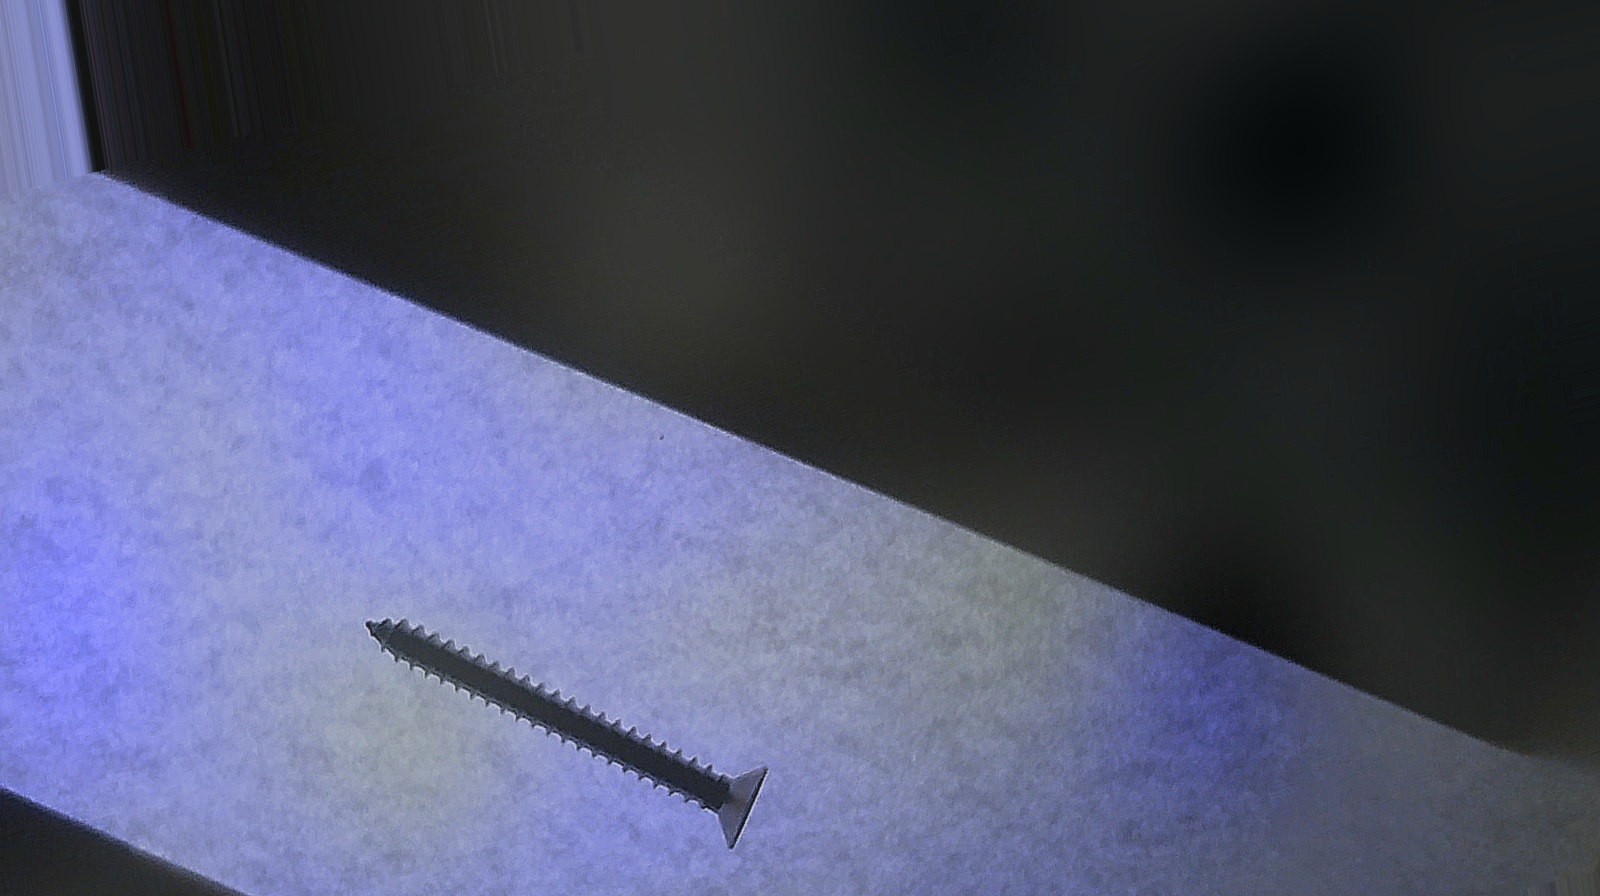S002: (342, 502, 790, 895)
